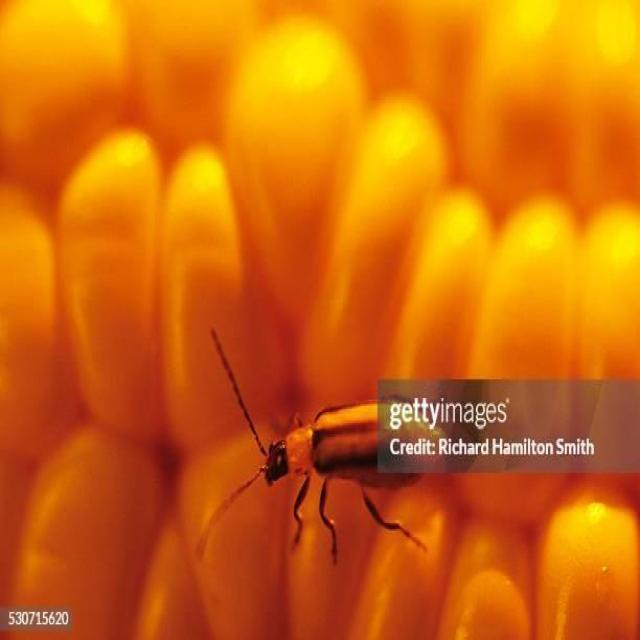trips: (200, 322, 452, 571)
